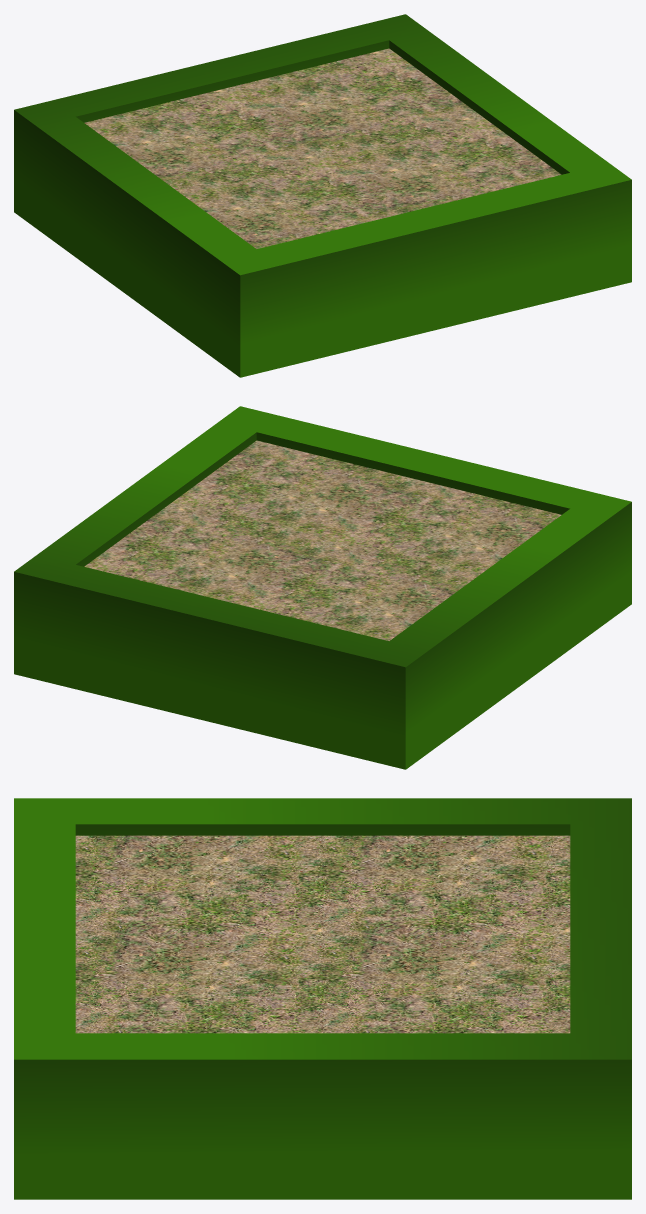
File: TILE_004_Home.fbx
3 views of the same model, one above another, from view 1: azimuth 30°, elevation 25°; view 2: azimuth 150°, elevation 25°; view 3: azimuth 270°, elevation 25° (orthographic). The views are drawn at different scales.
Parts seen in each view (by area): view 1: TILE_001_Home; view 2: TILE_001_Home; view 3: TILE_001_Home.
Part boxes in pixels (left/top/right/bottom): TILE_001_Home: left=14, top=14, right=631, bottom=377; TILE_001_Home: left=14, top=406, right=631, bottom=769; TILE_001_Home: left=14, top=798, right=631, bottom=1199.
Bounding box in the file's own units: 98.43 × 24.61 × 98.43.
